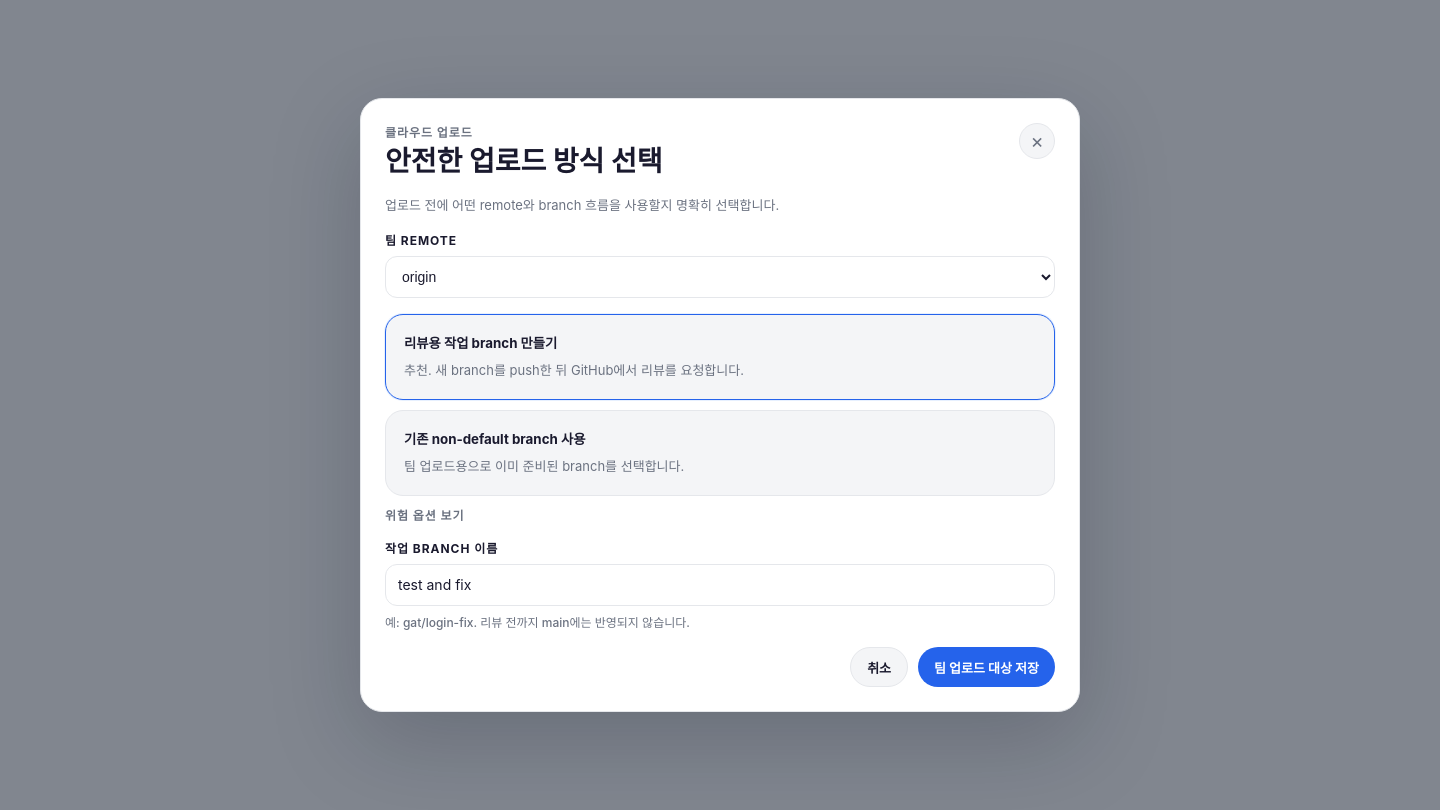
it: CloudSetupWizard › blocks team upload setup when the branch name contains spaces
Click the button "팀 업로드 대상 저장" at [987, 667], box top-left (918, 647), bottom-right (1055, 687)
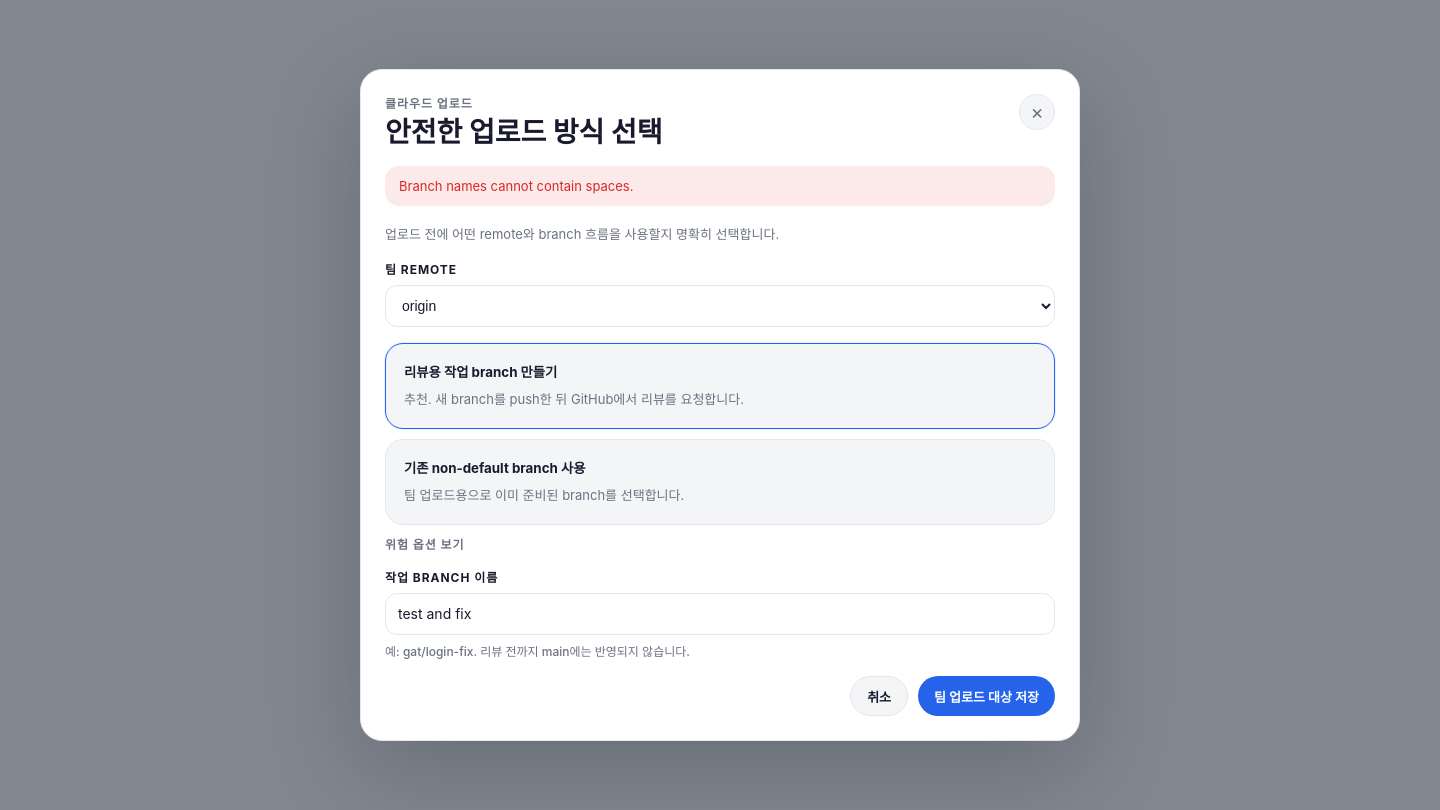
Expected: the text "Branch names cannot contain spaces." is shown, top-left (385, 166), bottom-right (1055, 206)
